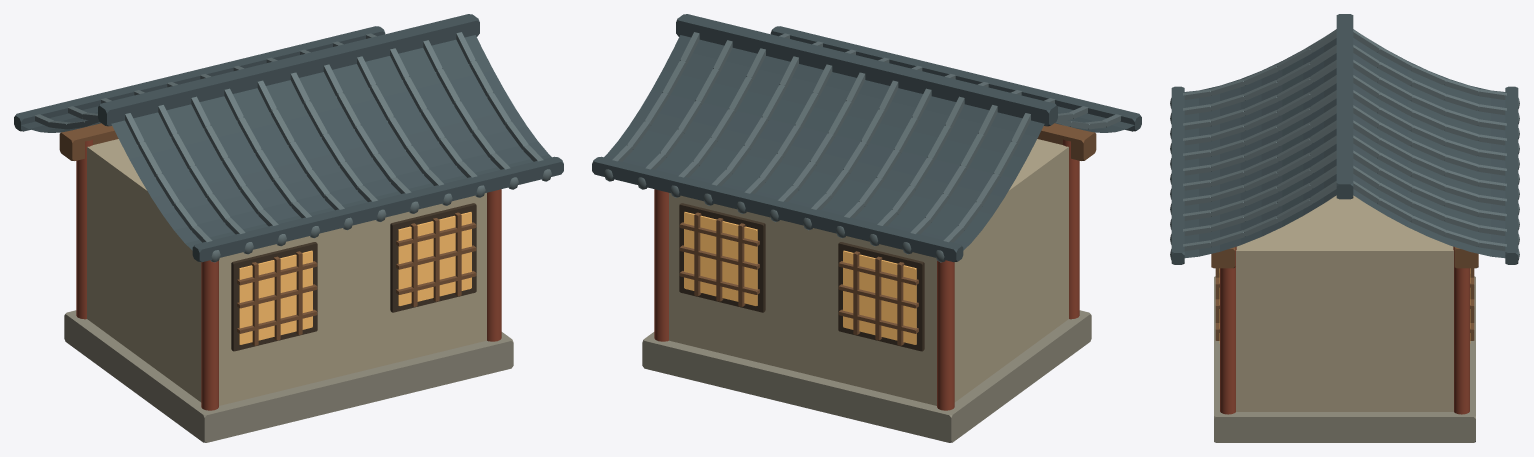
The model's file is night_house.glb.
3 renders of one model, left to right at view 1: azimuth 30°, elevation 25°; view 2: azimuth 150°, elevation 25°; view 3: azimuth 270°, elevation 25°, orthographic. The views are drawn at different scales.
Visible parts, largest first — view 1: WardHouse; view 2: WardHouse; view 3: WardHouse.
Boxes of the visible parts, x1,y1,x2,y2 form: WardHouse: (14,14,563,442); WardHouse: (592,14,1141,442); WardHouse: (1170,14,1519,442).
Size of the model in its own units: 1.69 by 1.26 by 1.47.
